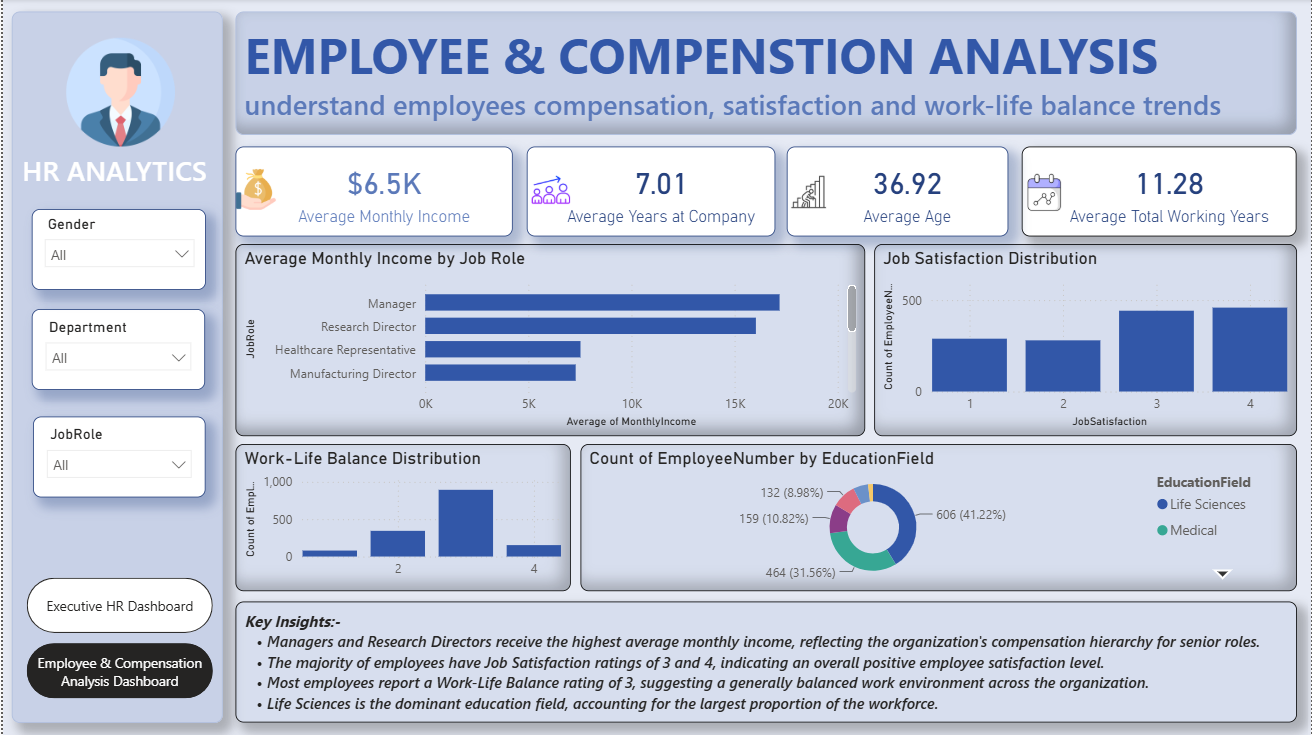

The page's visual inventory and layout, read from the dashboard file:
{"tool":"powerbi","page":{"name":"Employee & Compensation Analysis Dashboard","canvas":[1280,720],"ordinal":1},"visuals":[{"type":"shape","box":[8.6,12.2,206.7,695.8],"z":0},{"type":"card","fields":{"Values":["HR_ANALYTICS.Average Monthly Income"]},"box":[227.4,144.3,271.5,88],"z":1000},{"type":"card","fields":{"Values":["HR_ANALYTICS.Average Total Working Years"]},"box":[996.6,144.3,269,88],"z":2000},{"type":"card","fields":{"Values":["HR_ANALYTICS.Average Years at Company"]},"box":[512.4,144.3,243.3,88],"z":3000},{"type":"card","fields":{"Values":["HR_ANALYTICS.Average Age"]},"box":[766.7,144.3,216.4,88],"z":4000},{"type":"clusteredBarChart","title":"Average Monthly Income by Job Role","fields":{"Category":["HR_ANALYTICS.JobRole"],"Y":["Avg(HR_ANALYTICS.MonthlyIncome)"]},"box":[227,240,616.3,188.3],"z":5000},{"type":"clusteredColumnChart","title":"Job Satisfaction Distribution","fields":{"Category":["HR_ANALYTICS.JobSatisfaction"],"Y":["CountNonNull(HR_ANALYTICS.EmployeeNumber)"]},"box":[852.3,239.7,413.3,188.3],"z":6000},{"type":"clusteredColumnChart","title":"Work-Life Balance Distribution","fields":{"Category":["HR_ANALYTICS.WorkLifeBalance"],"Y":["CountNonNull(HR_ANALYTICS.EmployeeNumber)"]},"box":[227.4,435,327.7,144.3],"z":7000},{"type":"donutChart","fields":{"Category":["HR_ANALYTICS.EducationField"],"Y":["CountNonNull(HR_ANALYTICS.EmployeeNumber)"]},"box":[564.9,435.3,700.7,144.3],"z":8000},{"type":"slicer","fields":{"Values":["HR_ANALYTICS.Department"]},"box":[28.1,303.3,170,79.5],"z":9000},{"type":"slicer","fields":{"Values":["HR_ANALYTICS.Gender"]},"box":[28,206,170,79],"z":10000},{"type":"slicer","fields":{"Values":["HR_ANALYTICS.JobRole"]},"box":[29.3,408.4,168.8,79.5],"z":11000},{"type":"textbox","box":[227.4,12.2,1038.2,121.1],"z":12000},{"type":"image","box":[56.3,37.9,117.4,106.4],"z":13000},{"type":"textbox","box":[12.5,144.2,194,51.6],"z":14000},{"type":"textbox","box":[227.4,589.4,1038.2,118.6],"z":15000},{"type":"pageNavigator","box":[23.2,566.2,182.2,118.6],"z":15001},{"type":"image","box":[766.7,171.2,42.8,35.5],"z":15003},{"type":"image","box":[512.4,163.9,42.8,45.2],"z":15004},{"type":"image","box":[996.6,165.1,40.4,47.7],"z":15005},{"type":"image","box":[227.4,163.9,40.4,45.2],"z":15006}]}

Visuals, with their boxes in screenshot pixels (x1, y1, x2, y2), scaled from the page's 1280x720 canvas onto the 1312x735 screenshot:
shape: [9, 12, 221, 723]
card - HR_ANALYTICS.Average Monthly Income: [233, 147, 511, 237]
card - HR_ANALYTICS.Average Total Working Years: [1022, 147, 1297, 237]
card - HR_ANALYTICS.Average Years at Company: [525, 147, 775, 237]
card - HR_ANALYTICS.Average Age: [786, 147, 1008, 237]
"Average Monthly Income by Job Role" clusteredBarChart: [233, 245, 864, 437]
"Job Satisfaction Distribution" clusteredColumnChart: [874, 245, 1297, 437]
"Work-Life Balance Distribution" clusteredColumnChart: [233, 444, 569, 591]
donutChart - HR_ANALYTICS.EducationField x CountNonNull(HR_ANALYTICS.EmployeeNumber): [579, 444, 1297, 592]
slicer - HR_ANALYTICS.Department: [29, 310, 203, 391]
slicer - HR_ANALYTICS.Gender: [29, 210, 203, 291]
slicer - HR_ANALYTICS.JobRole: [30, 417, 203, 498]
textbox: [233, 12, 1297, 136]
image: [58, 39, 178, 147]
textbox: [13, 147, 212, 200]
textbox: [233, 602, 1297, 723]
pageNavigator: [24, 578, 211, 699]
image: [786, 175, 830, 211]
image: [525, 167, 569, 213]
image: [1022, 169, 1063, 217]
image: [233, 167, 274, 213]
